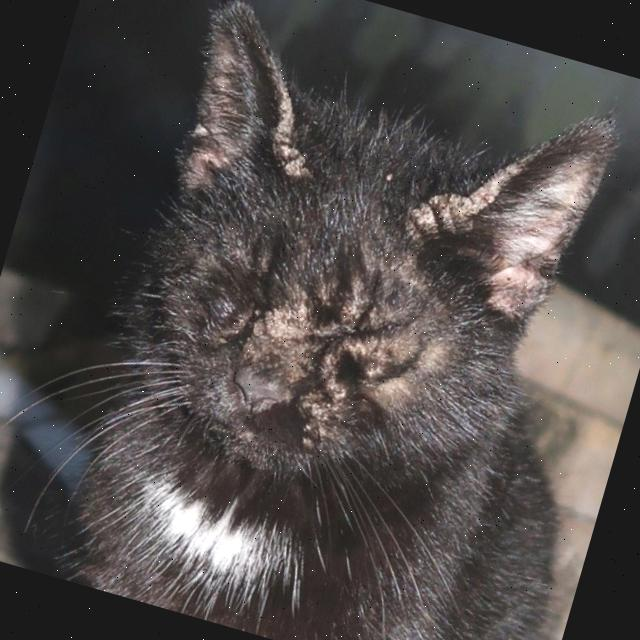cat-scabies: (306, 241, 417, 343), (296, 361, 356, 446), (265, 128, 315, 182), (422, 187, 476, 234)
